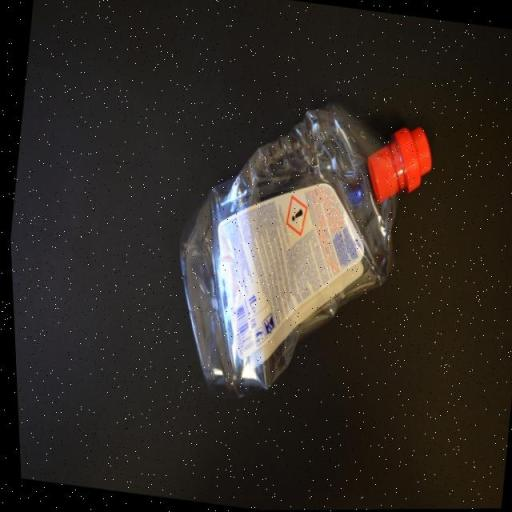plastic: (151, 85, 446, 422)
